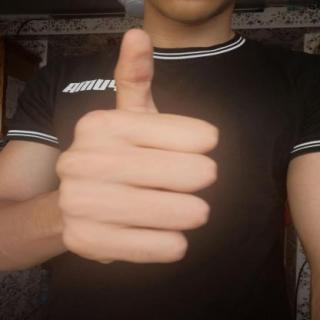ALIF: (41, 14, 243, 279)
